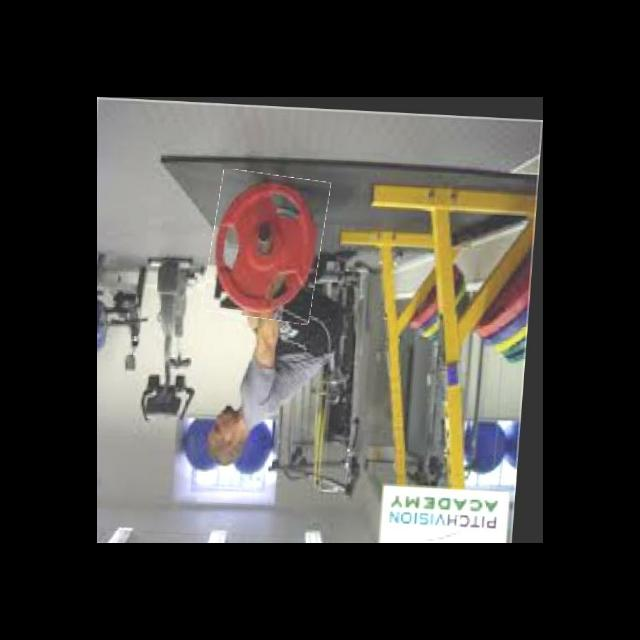barbell: (207, 169, 330, 321)
